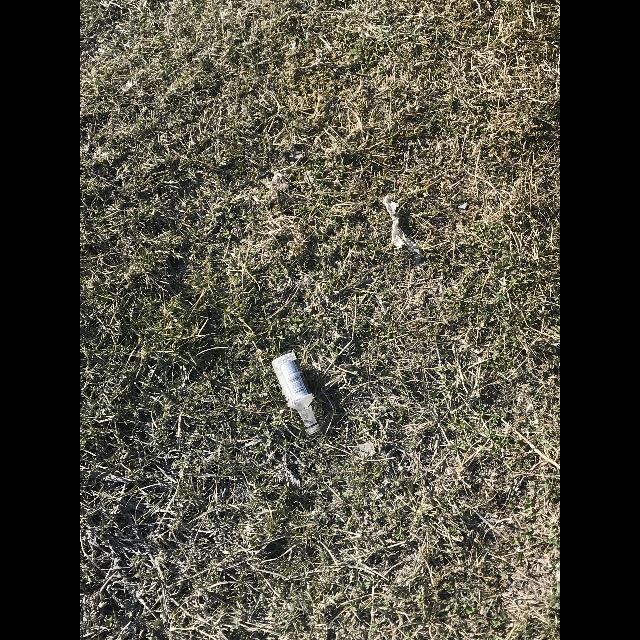Plastic: (272, 352, 320, 434)
